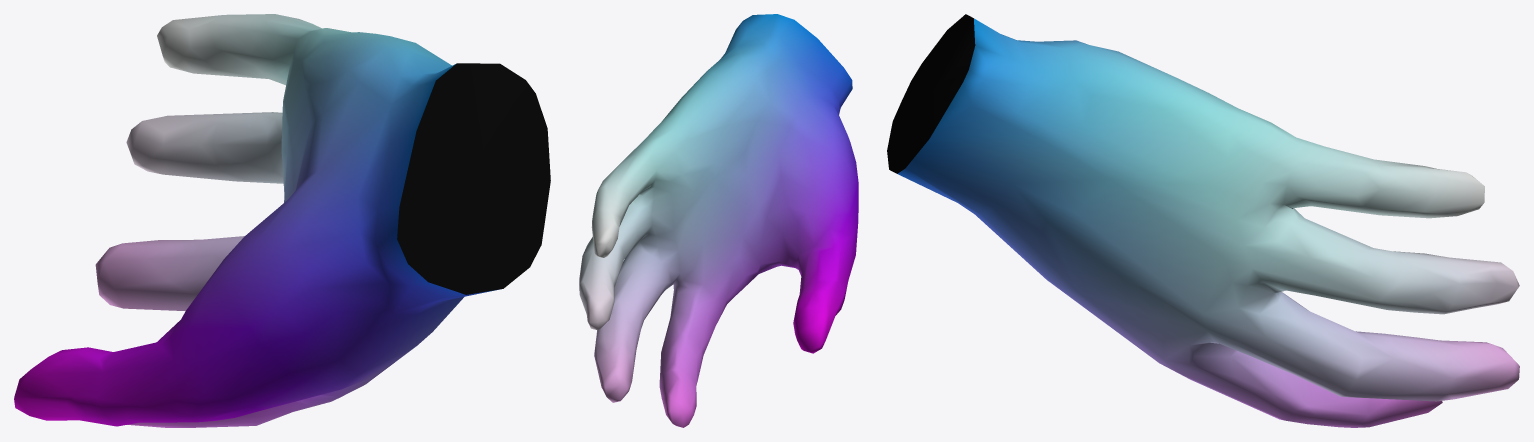
The model's file is LeftHand.gltf.
The picture shows the model from 3 angles, left to right: view 1: azimuth 30°, elevation 25°; view 2: azimuth 150°, elevation 25°; view 3: azimuth 270°, elevation 25°; orthographic projection. The views are drawn at different scales.
Visible parts, largest first — view 1: hands:Lhand; view 2: hands:Lhand; view 3: hands:Lhand.
Boxes of the visible parts, left/top/right/bottom form: hands:Lhand: left=14, top=14, right=550, bottom=427; hands:Lhand: left=579, top=14, right=858, bottom=427; hands:Lhand: left=887, top=14, right=1519, bottom=427.
Bounding box in the file's own units: 10.39 × 13.91 × 18.36.
